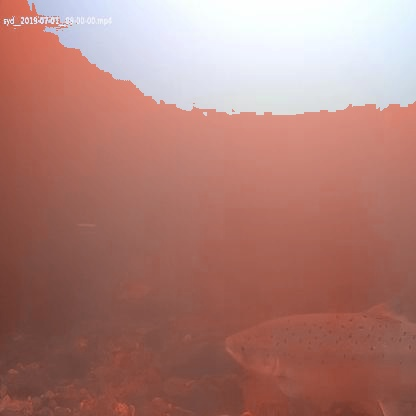salmon: (222, 296, 416, 416)
